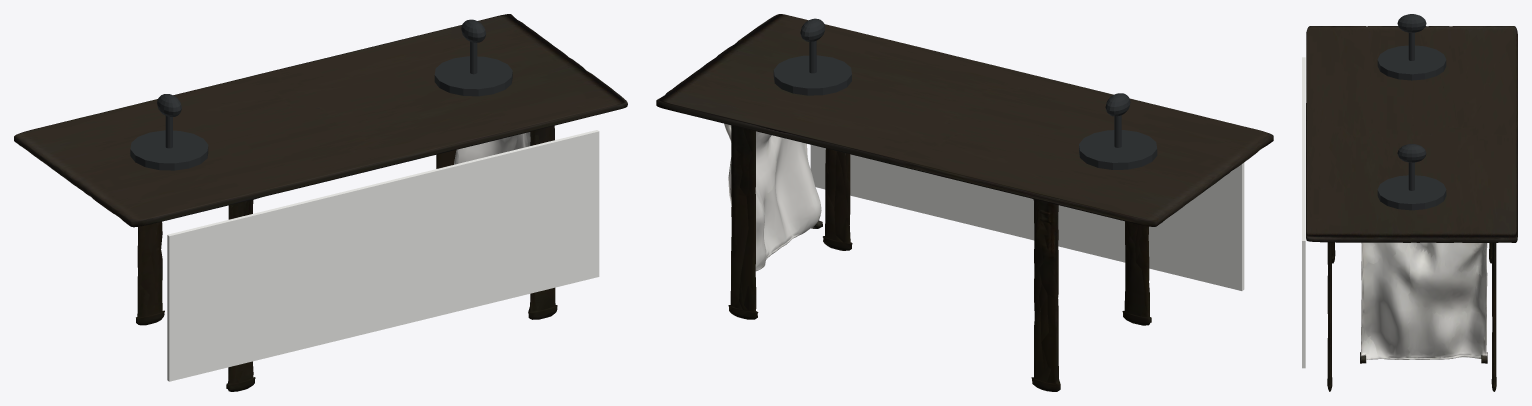
The model's file is change-mynd-table.glb.
3 views of the same model, side by side, from view 1: azimuth 30°, elevation 25°; view 2: azimuth 150°, elevation 25°; view 3: azimuth 270°, elevation 25° (orthographic). The views are drawn at different scales.
Visible parts, largest first — view 1: Debate_Banner, Debate_table, Microphone_0_base, Microphone_1_base; view 2: Debate_table, Debate_Banner, Microphone_1_base, Microphone_0_base; view 3: Debate_table, Microphone_0_base, Microphone_1_base, Debate_Banner, Microphone_1_head, Microphone_0_head, Microphone_1_stem.
Part boxes in pixels (x1,y1,x2,y2): Debate_Banner: [167, 130, 599, 381]; Debate_table: [14, 14, 627, 391]; Microphone_0_base: [130, 130, 208, 170]; Microphone_1_base: [434, 56, 512, 96]; Debate_table: [656, 14, 1273, 391]; Debate_Banner: [810, 144, 1244, 290]; Microphone_1_base: [773, 55, 851, 95]; Microphone_0_base: [1079, 130, 1157, 169]; Debate_table: [1306, 26, 1517, 391]; Microphone_0_base: [1377, 45, 1446, 80]; Microphone_1_base: [1377, 175, 1446, 210]; Debate_Banner: [1302, 57, 1305, 368]; Microphone_1_head: [1397, 144, 1426, 162]; Microphone_0_head: [1397, 14, 1426, 32]; Microphone_1_stem: [1408, 162, 1414, 190].
Bounding box in the file's own units: 1.9 × 0.976 × 0.815.
Materials: 3 (1 with a texture image).
